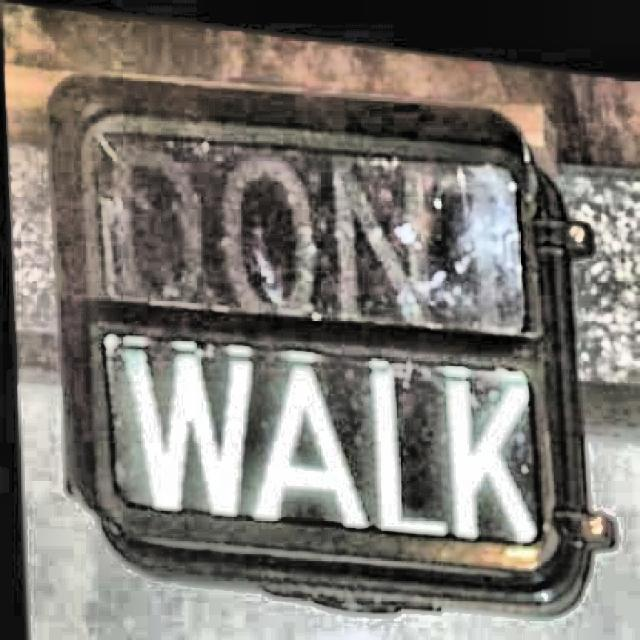semaforo pedestre: (13, 38, 622, 640)
